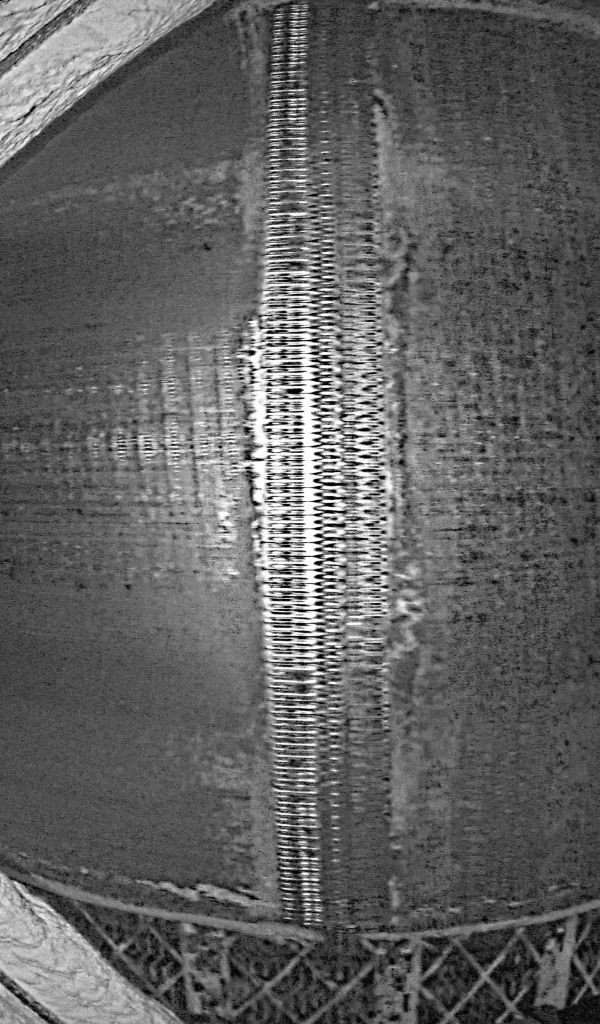splice: (235, 12, 414, 928)
